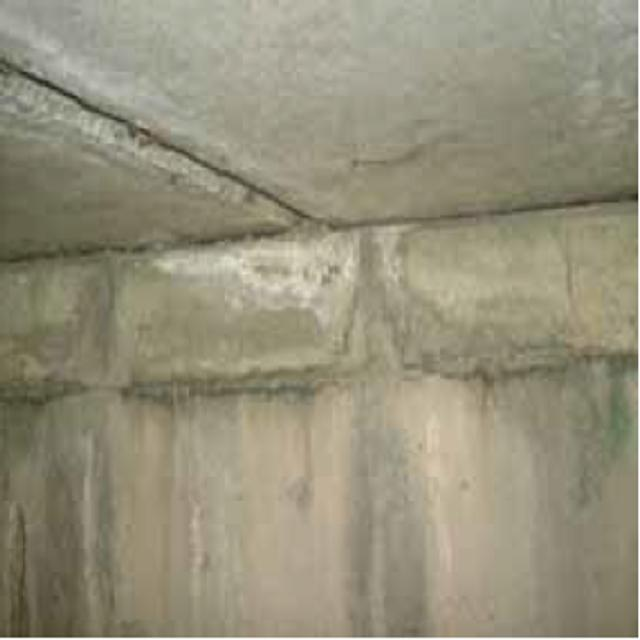freelime: (153, 227, 418, 307)
